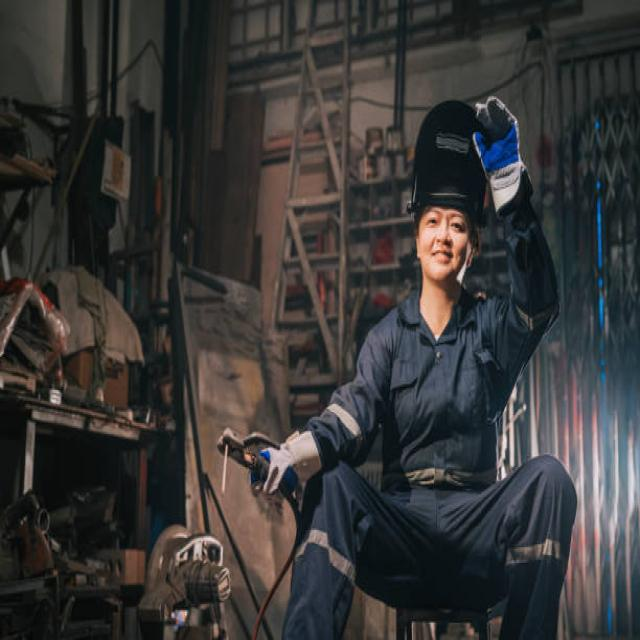Gloves: (471, 87, 532, 228), (251, 420, 328, 503)
helmet: (403, 100, 487, 215)
person: (248, 95, 577, 640)
